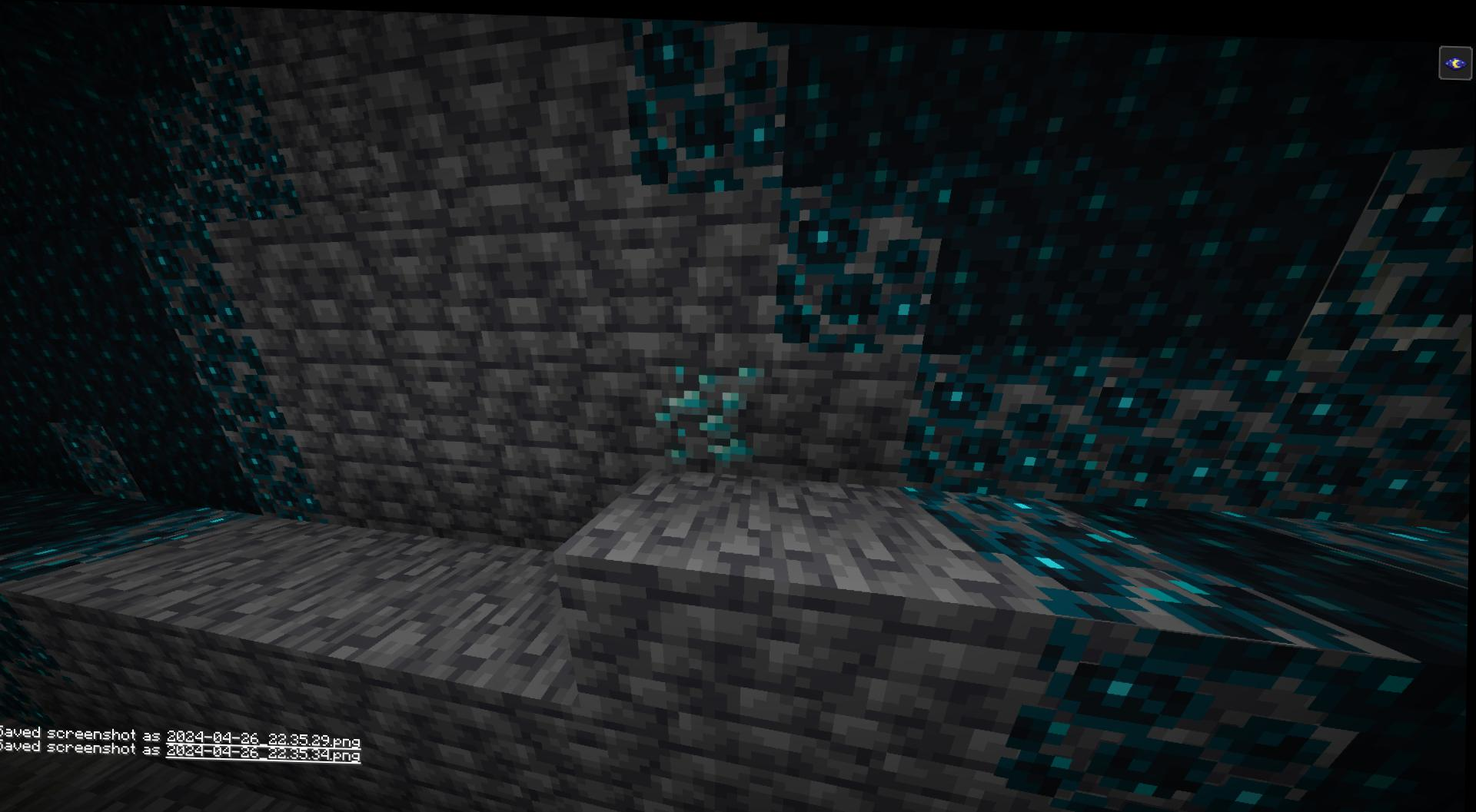diamond ore: (654, 350, 770, 467)
